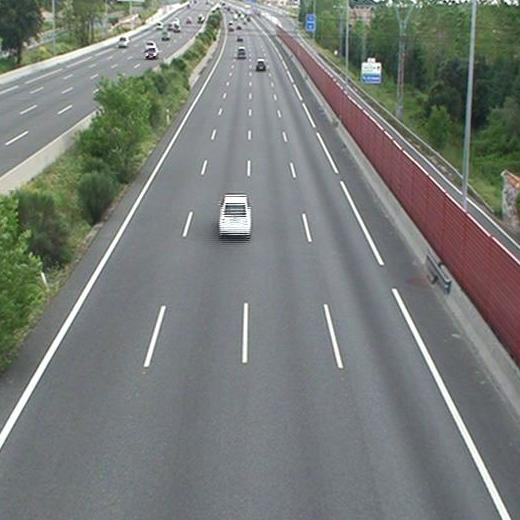car: (219, 196, 250, 234), (236, 47, 246, 58), (255, 60, 266, 70)
